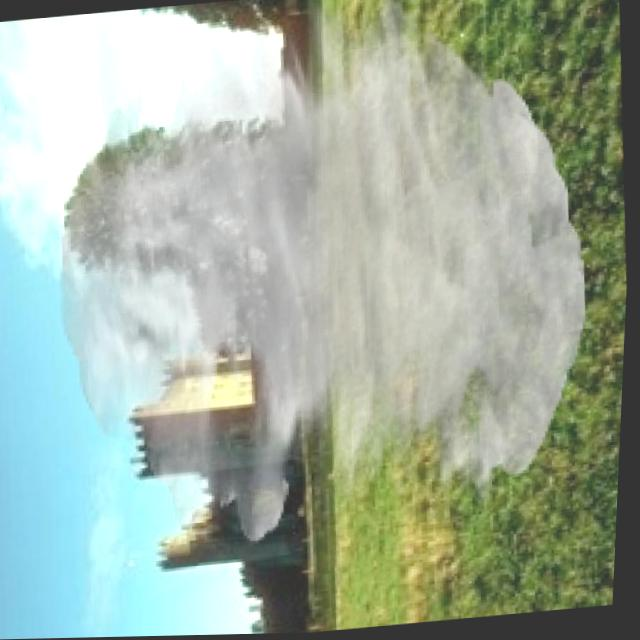Smoke: (52, 0, 594, 561)
